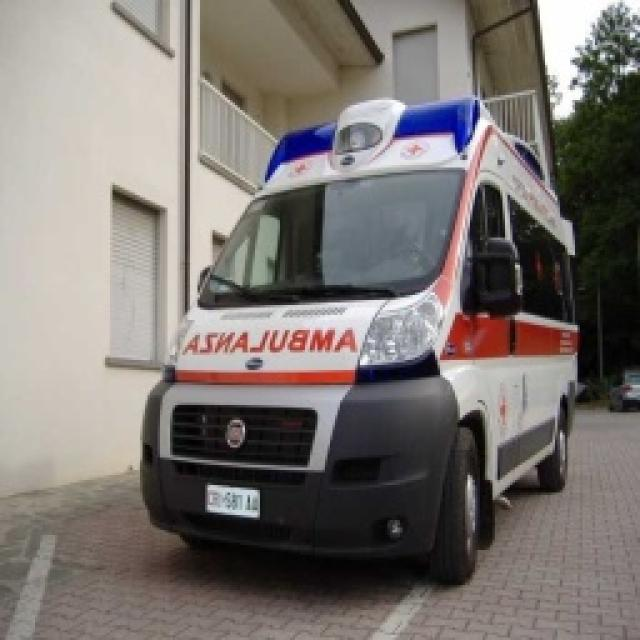ambulance: (132, 95, 578, 567), (607, 369, 640, 412)
